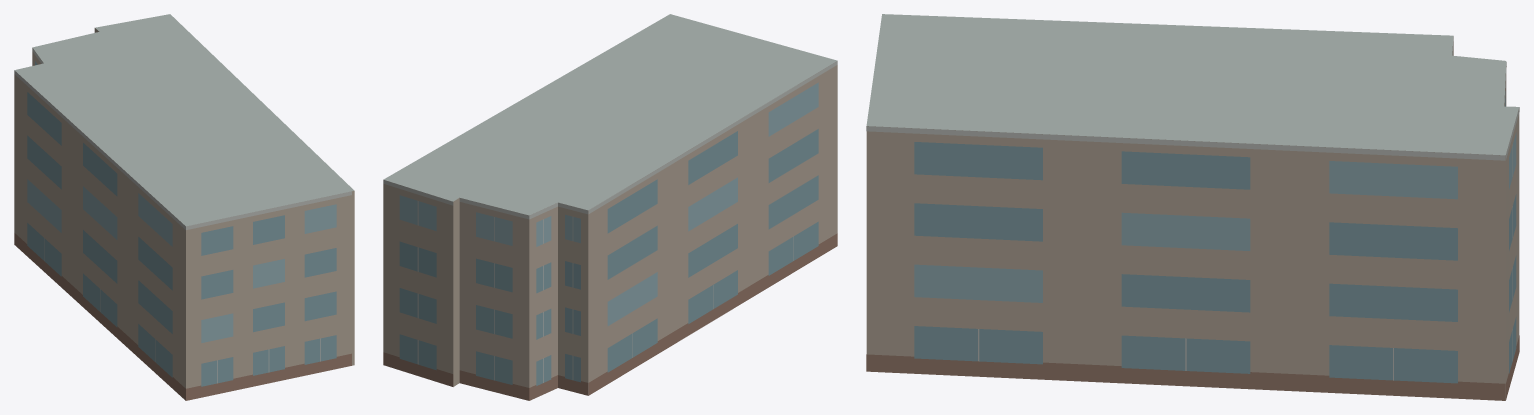
File: survey-upis-32593706.glb
The picture shows the model from 3 angles, left to right: view 1: azimuth 30°, elevation 25°; view 2: azimuth 150°, elevation 25°; view 3: azimuth 270°, elevation 25°; orthographic projection. The views are drawn at different scales.
Parts seen in each view (by area): view 1: survey-upis-32593706.tmp; view 2: survey-upis-32593706.tmp; view 3: survey-upis-32593706.tmp.
Boxes of the visible parts, bbox=[...] form: survey-upis-32593706.tmp: bbox=[14, 14, 354, 400]; survey-upis-32593706.tmp: bbox=[383, 14, 837, 400]; survey-upis-32593706.tmp: bbox=[866, 14, 1519, 400].
Bounding box in the file's own units: 13.84 × 11.2 × 27.
